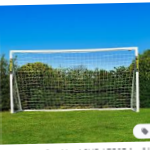goals: (8, 46, 140, 117)
